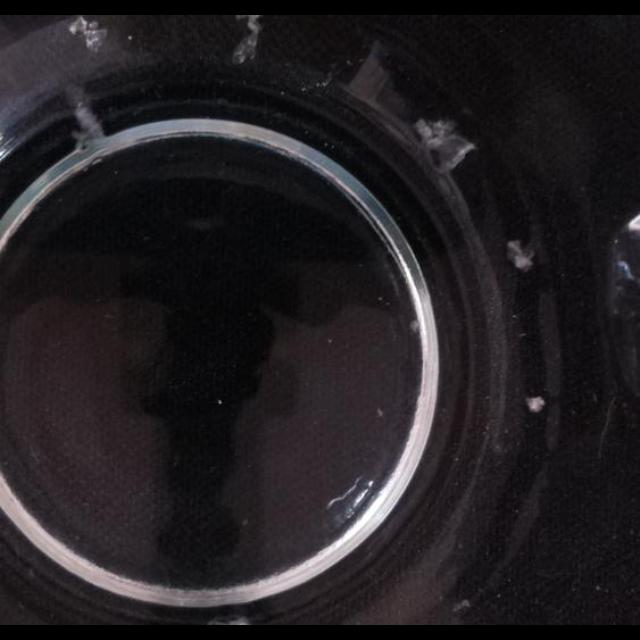Fibre: (416, 118, 474, 172), (230, 15, 266, 64), (71, 100, 105, 146), (68, 16, 108, 52), (506, 238, 536, 272)
microbeads: (452, 598, 472, 614), (526, 396, 544, 412), (408, 318, 419, 334), (375, 406, 383, 418), (217, 399, 223, 405)
